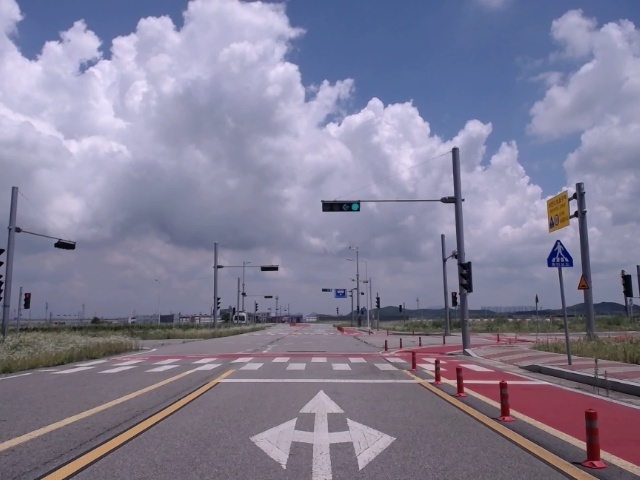all_green_4: (324, 201, 360, 210)
